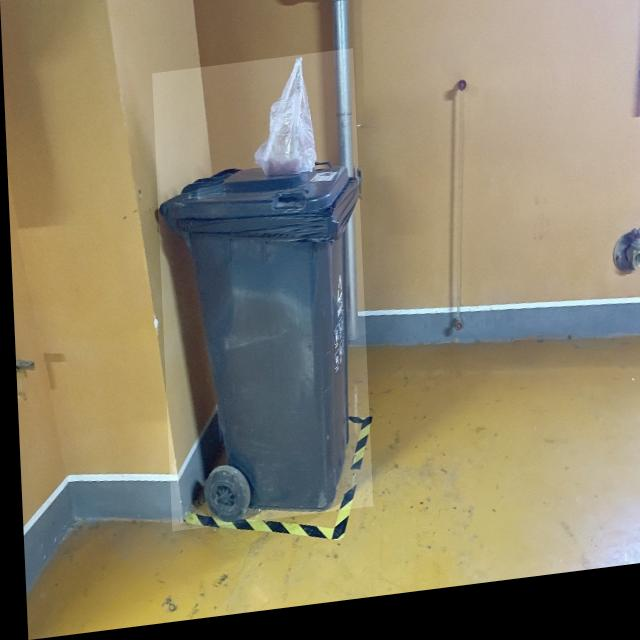overflow: (151, 57, 368, 535)
